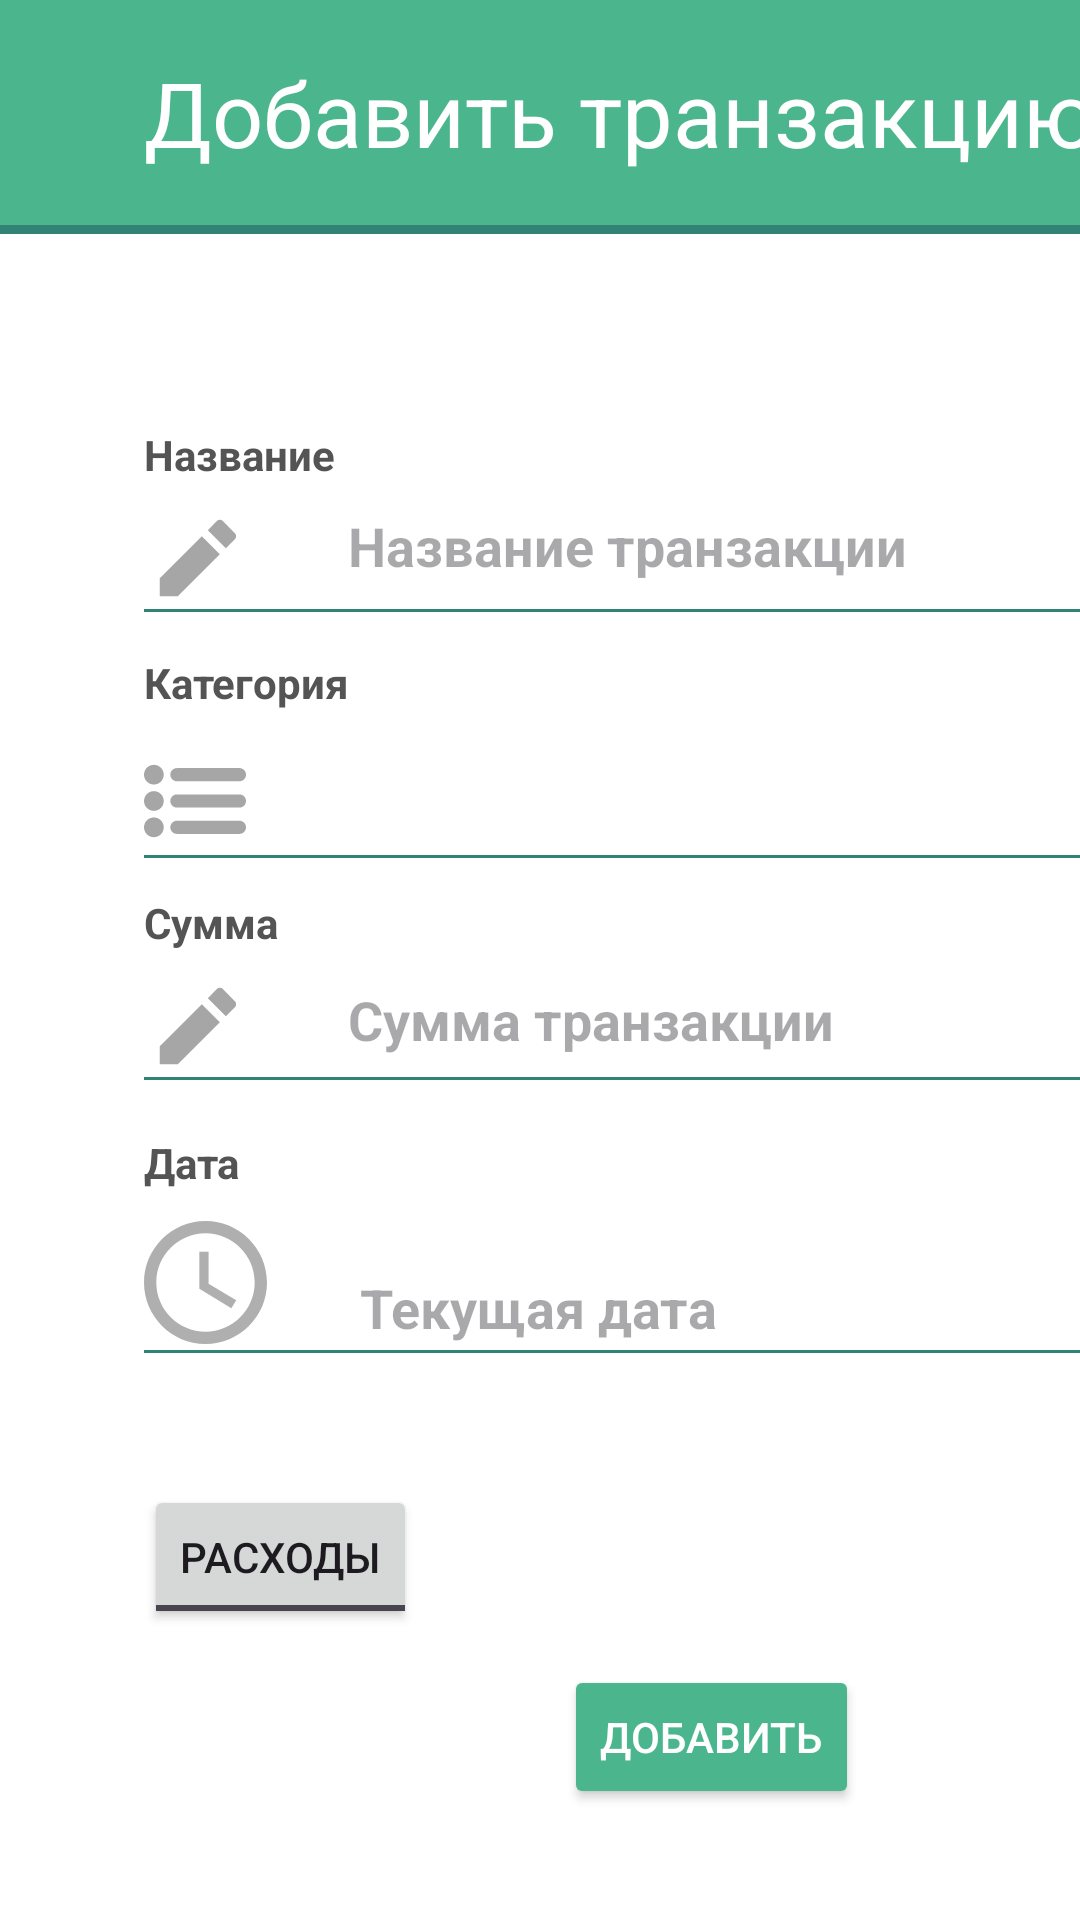

Icon bounding boxes for this 1080px×1920px phone screenshot, format detection(x1, y1, x2, y2):
clock: detection(144, 1221, 267, 1344)
list: detection(144, 765, 246, 837)
pen: detection(160, 520, 236, 596), detection(160, 988, 236, 1064)
